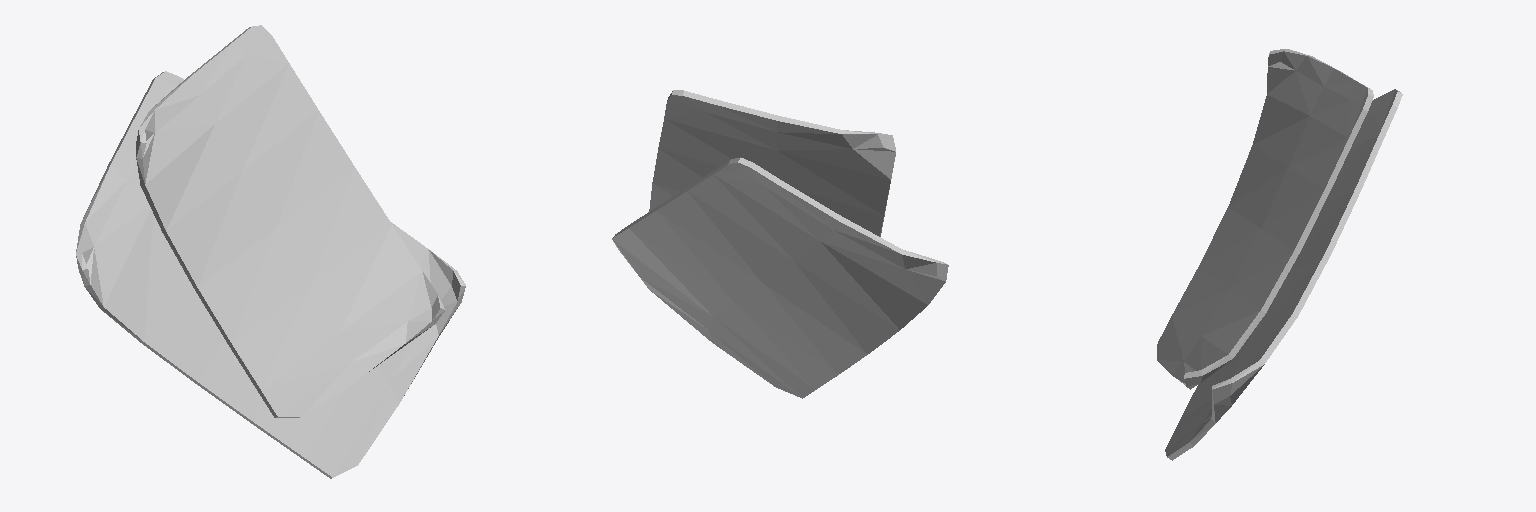
File: Paper.obj
3 renders of one model, left to right at view 1: azimuth 30°, elevation 25°; view 2: azimuth 150°, elevation 25°; view 3: azimuth 270°, elevation 25°, orthographic.
Visible parts, largest first — view 1: obj1; view 2: obj1; view 3: obj1.
Boxes of the visible parts, x1,y1,x2,y2 form: obj1: [76, 25, 465, 478]; obj1: [612, 90, 948, 398]; obj1: [1157, 49, 1402, 460].
Bounding box in the file's own units: 0.5096 × 0.5156 × 0.3065.